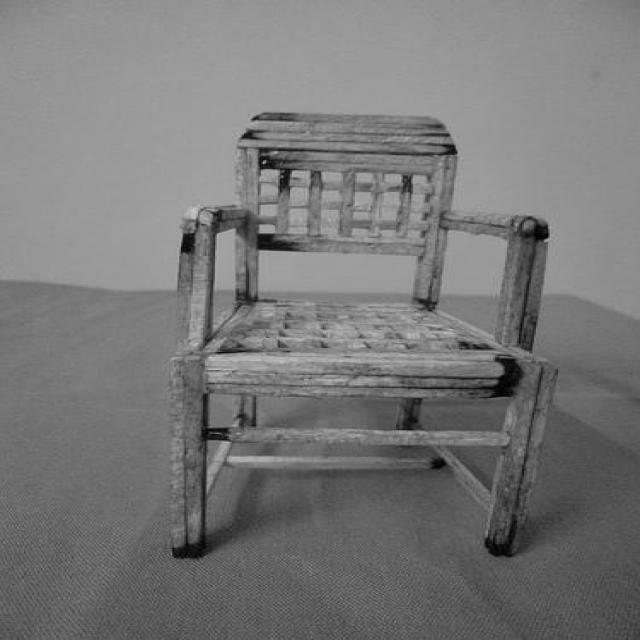chair: (164, 110, 560, 560)
